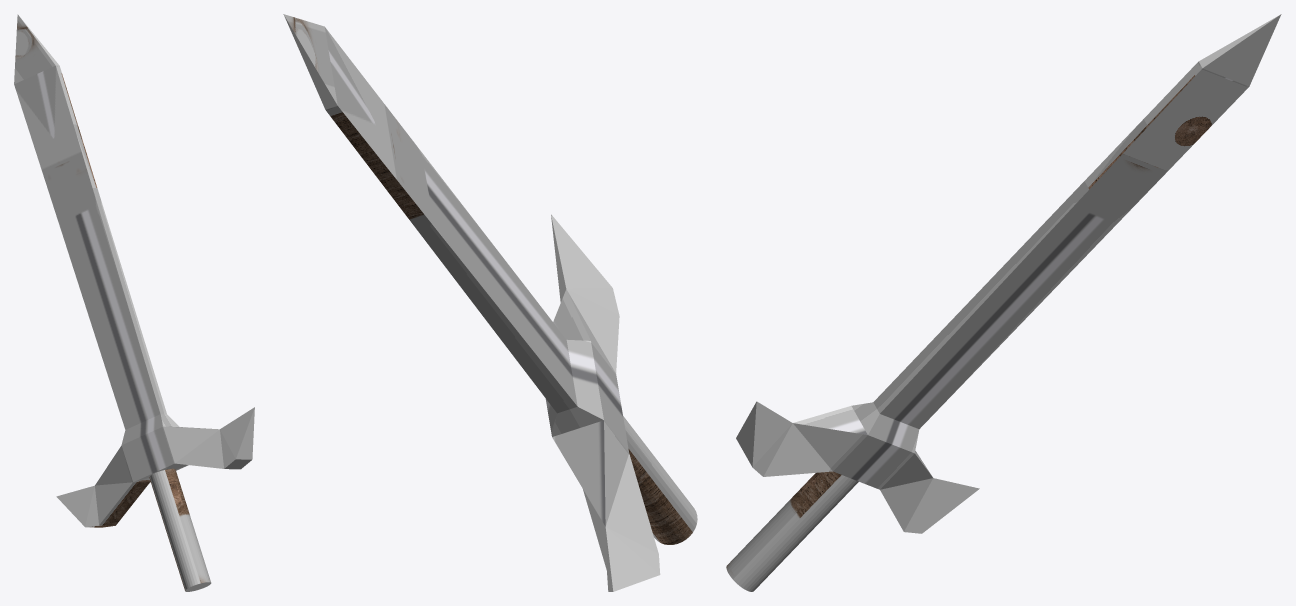
Rendered from Protagonista118.obj.
The picture shows the model from 3 angles, left to right: view 1: azimuth 30°, elevation 25°; view 2: azimuth 150°, elevation 25°; view 3: azimuth 270°, elevation 25°; orthographic projection. The views are drawn at different scales.
Visible parts, largest first — view 1: Cube; view 2: Cube; view 3: Cube.
Boxes of the visible parts, box(x1,y1,x2,y2) form: Cube: box(14, 14, 254, 591); Cube: box(283, 14, 697, 591); Cube: box(726, 14, 1281, 591).
Bounding box in the file's own units: 0.3839 × 1.36 × 1.16.
Materials: 1 (1 with a texture image).
